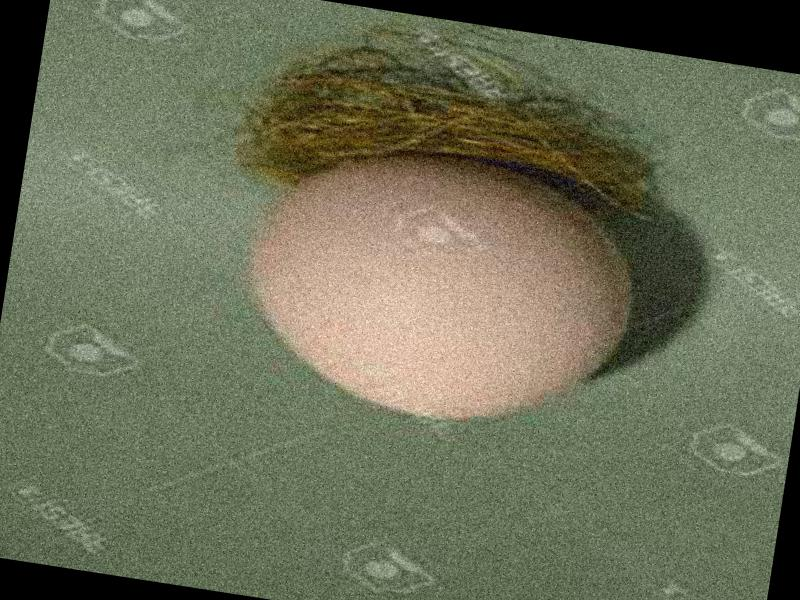Eggs: (233, 133, 648, 446)
